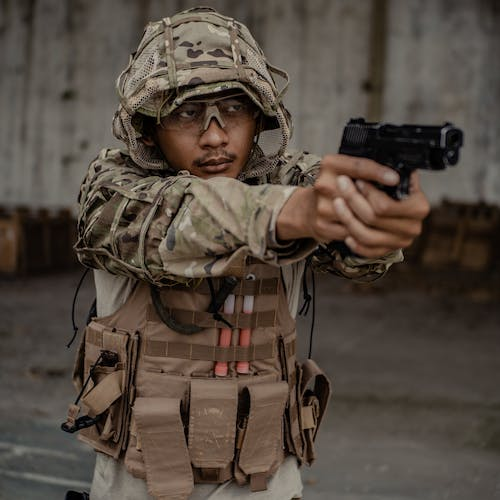gun: (339, 114, 466, 202)
